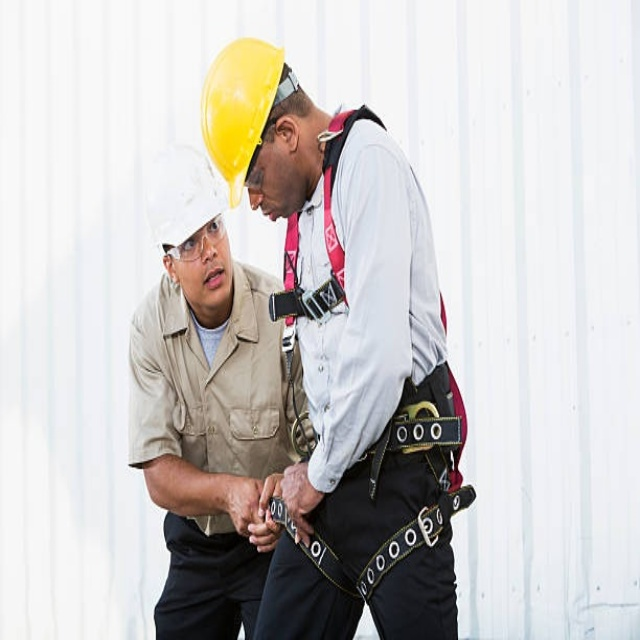Gafas: (164, 213, 227, 262), (246, 113, 280, 190)
Sin_guantes: (269, 459, 321, 539), (220, 471, 279, 540)
Sin_mascara: (199, 262, 232, 304), (261, 191, 292, 224)
